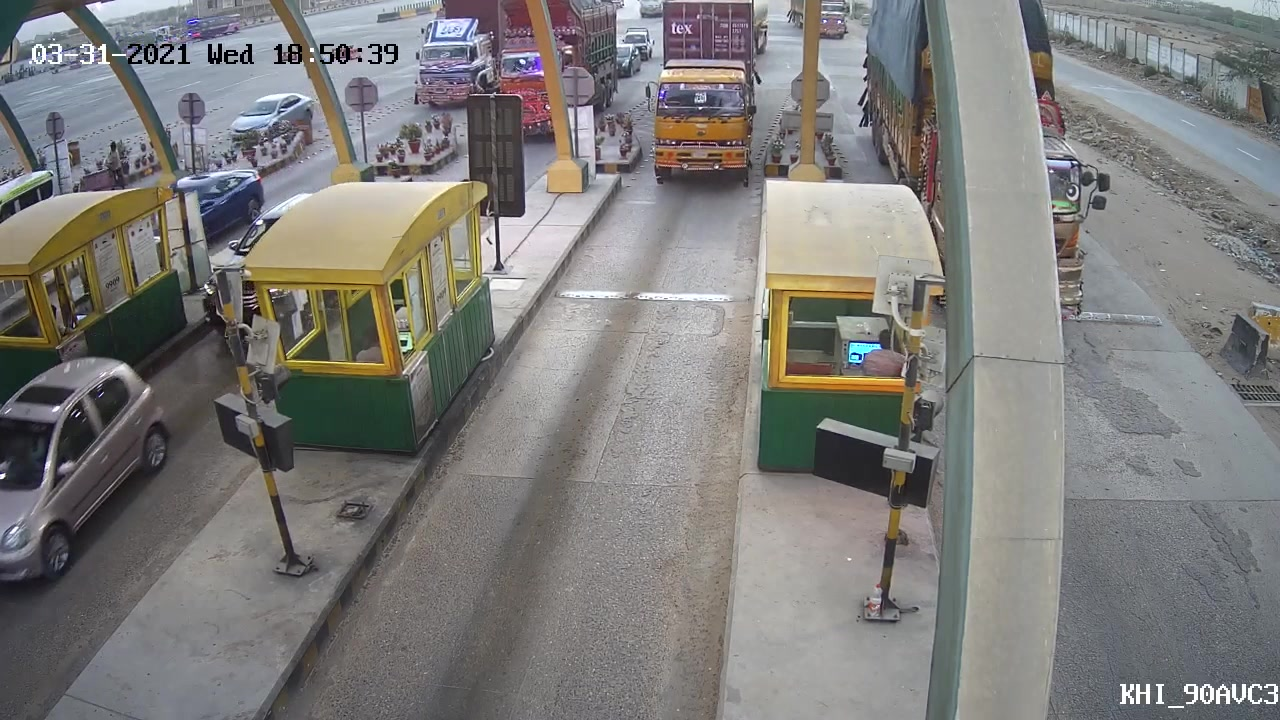F6: (635, 1, 770, 190)
